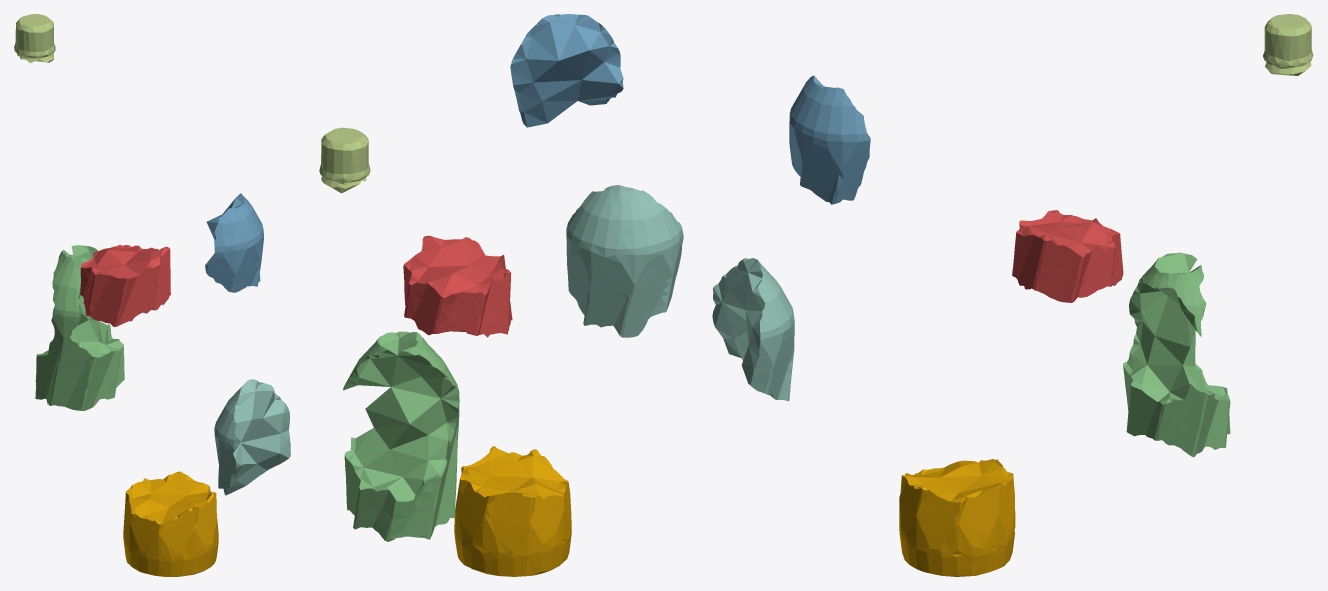
The model's file is fractured_27_6pcs_transformed.glb.
3 views of the same model, side by side, from view 1: azimuth 30°, elevation 25°; view 2: azimuth 150°, elevation 25°; view 3: azimuth 270°, elevation 25° (orthographic). The views are drawn at different scales.
Parts seen in each view (by area): view 1: piece_3.obj, piece_0.obj, piece_4.obj, piece_1.obj, piece_2.obj, piece_5.obj; view 2: piece_3.obj, piece_4.obj, piece_0.obj, piece_2.obj, piece_1.obj, piece_5.obj; view 3: piece_3.obj, piece_0.obj, piece_4.obj, piece_1.obj, piece_2.obj, piece_5.obj.
Part boxes in pixels (x1=…): piece_3.obj: x1=35, y1=245, x2=124, y2=410; piece_0.obj: x1=123, y1=471, x2=218, y2=576; piece_4.obj: x1=214, y1=379, x2=290, y2=495; piece_1.obj: x1=80, y1=244, x2=170, y2=326; piece_2.obj: x1=205, y1=193, x2=263, y2=292; piece_5.obj: x1=14, y1=14, x2=55, y2=62; piece_3.obj: x1=343, y1=331, x2=459, y2=541; piece_4.obj: x1=566, y1=185, x2=683, y2=337; piece_0.obj: x1=454, y1=446, x2=571, y2=576; piece_2.obj: x1=510, y1=14, x2=623, y2=127; piece_1.obj: x1=403, y1=235, x2=512, y2=337; piece_5.obj: x1=319, y1=127, x2=370, y2=193; piece_3.obj: x1=1123, y1=252, x2=1230, y2=457; piece_0.obj: x1=899, y1=459, x2=1015, y2=576; piece_4.obj: x1=712, y1=258, x2=794, y2=401; piece_1.obj: x1=1012, y1=210, x2=1123, y2=302; piece_2.obj: x1=789, y1=75, x2=870, y2=204; piece_5.obj: x1=1263, y1=14, x2=1313, y2=75.
Bounding box in the file's own units: 0.3156 × 1.6 × 1.63.
